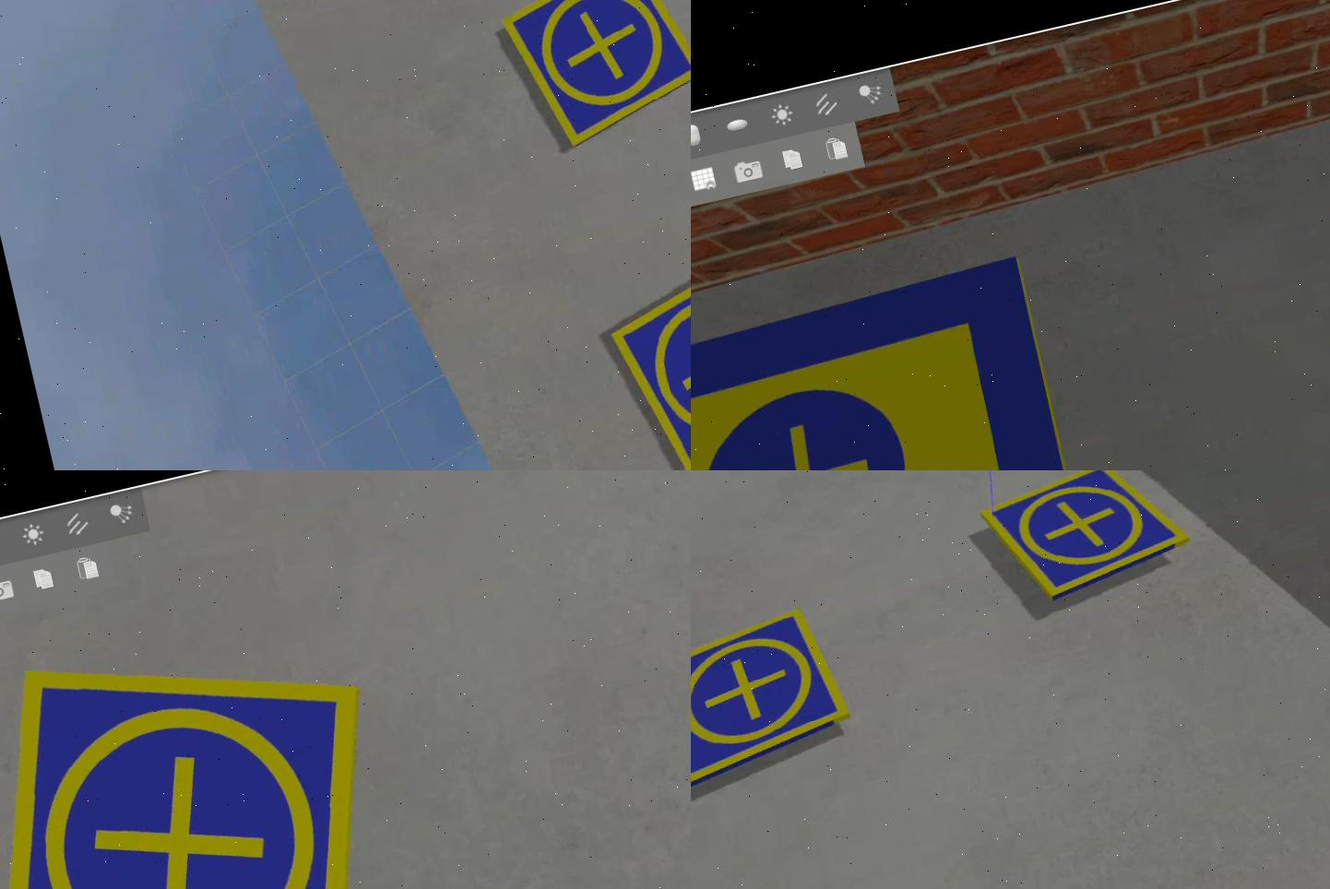large_base: (692, 252, 1105, 471)
small_base: (1, 599, 433, 889), (692, 605, 863, 794), (493, 1, 692, 155), (977, 471, 1195, 610), (597, 246, 692, 471)
